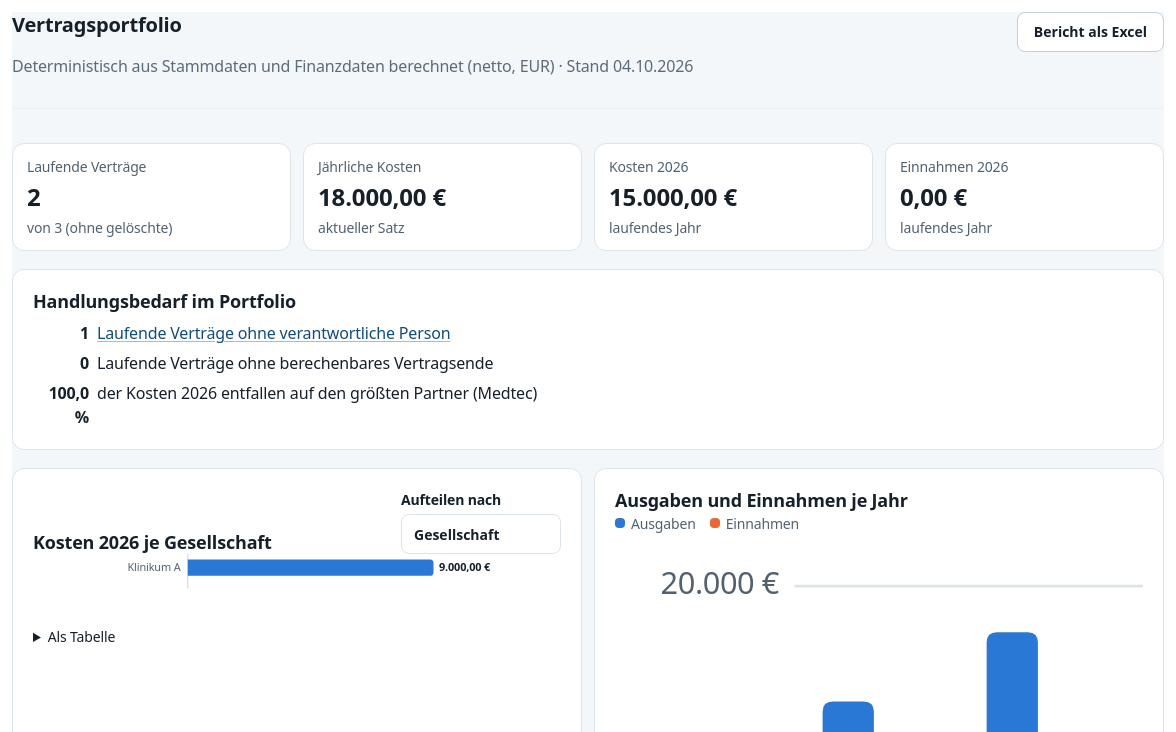
Test: Vertragsportfolio › zeigt Kennzahlen, Handlungsbedarf mit Drill-down und Diagramme mit Tabellenansicht
This screenshot has width=1176, height=732.
Expected: the text "18.000,00 €" is shown, 318,180 -> 446,213
Expected: the text "100,0 %" is shown, 49,382 -> 89,428
Select "Vertragspartner" in the dropdown labelled "Aufteilen nach" at (481,534), box 401,514 -> 561,554
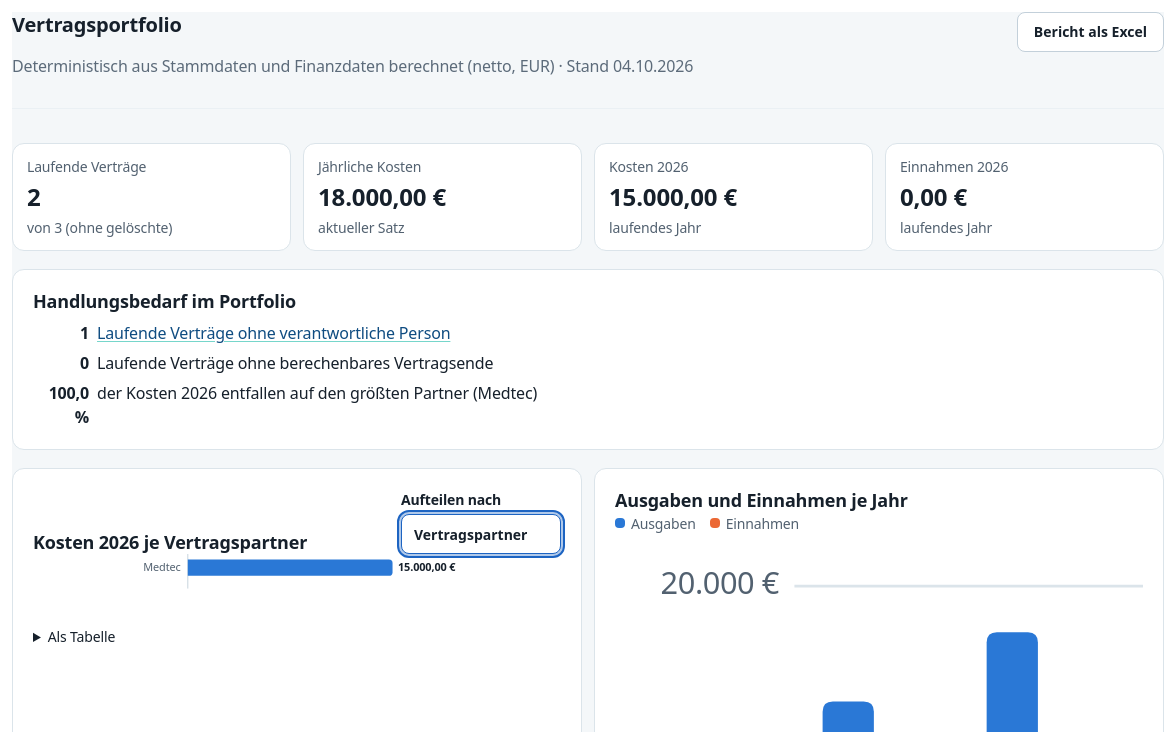
Expected: the list item "Ausgaben" is shown, 615,513 -> 696,534
Now the icon named "Vertragspartner: Medtec 15.000,00" is shown, box 33,554 -> 561,589
